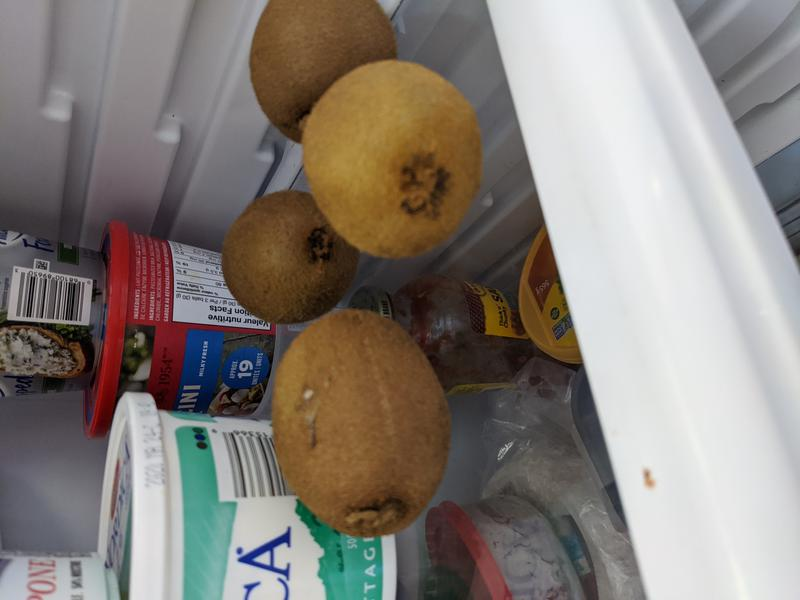kiwi: (270, 308, 453, 538), (301, 58, 485, 260), (249, 1, 401, 144), (220, 190, 360, 324)
